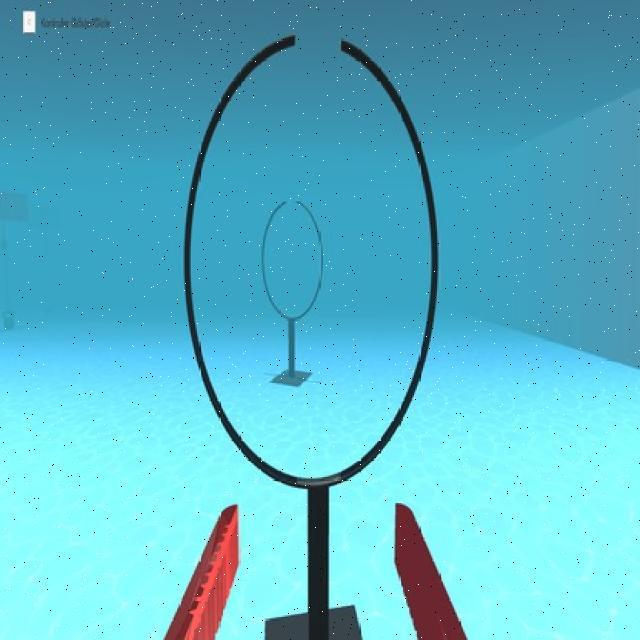Circle: (178, 29, 444, 488), (258, 194, 326, 322)
